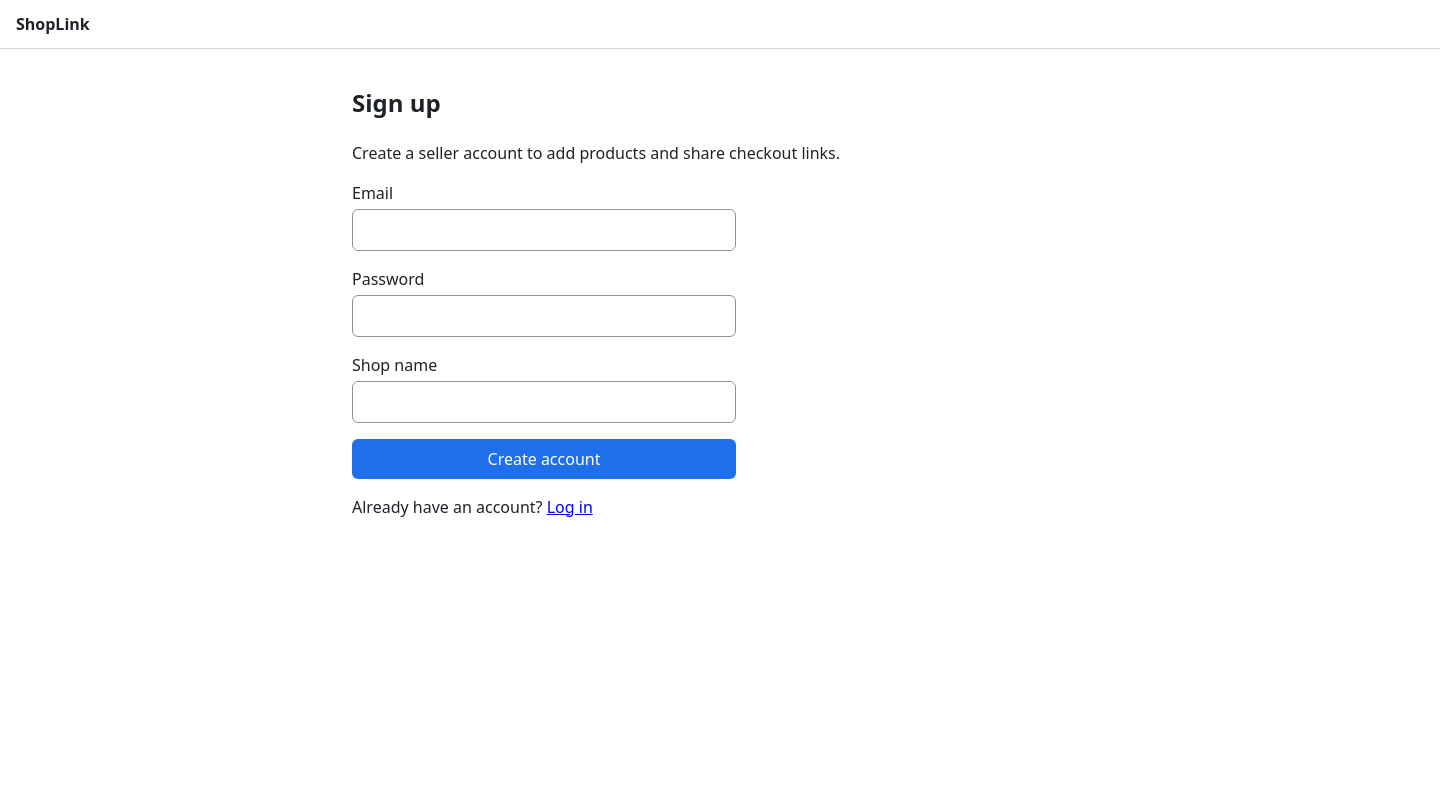
Scenario: sign up page › shows each field's error next to it
Check: the heading "Sign up" is shown, box [352, 86, 441, 119]
Step 1. Type "rafi@example.com" into the field labelled "Email" → (544, 230), box [352, 209, 736, 251]
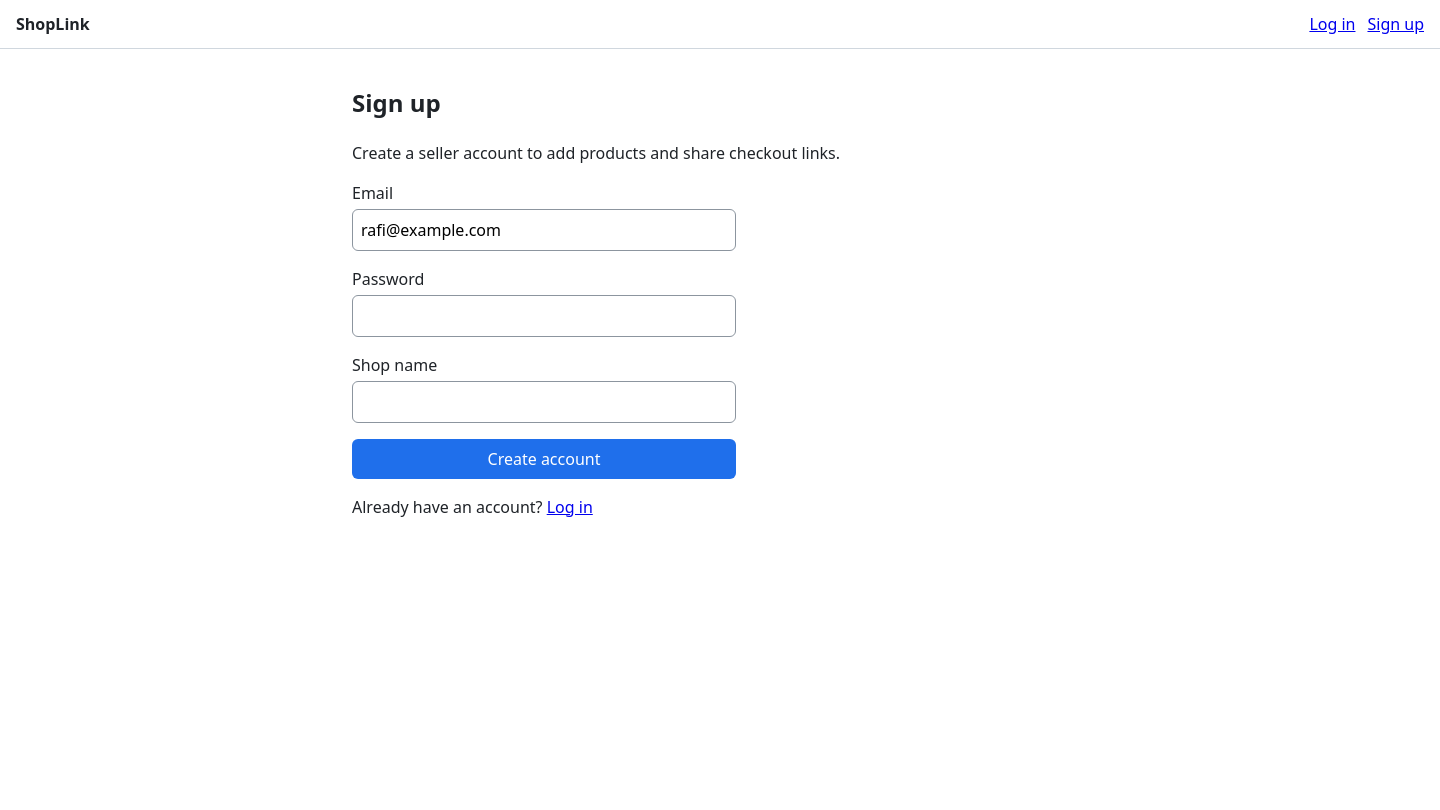
Step 2. Type "short" into the password field labelled "Password" → (544, 316), box [352, 295, 736, 337]
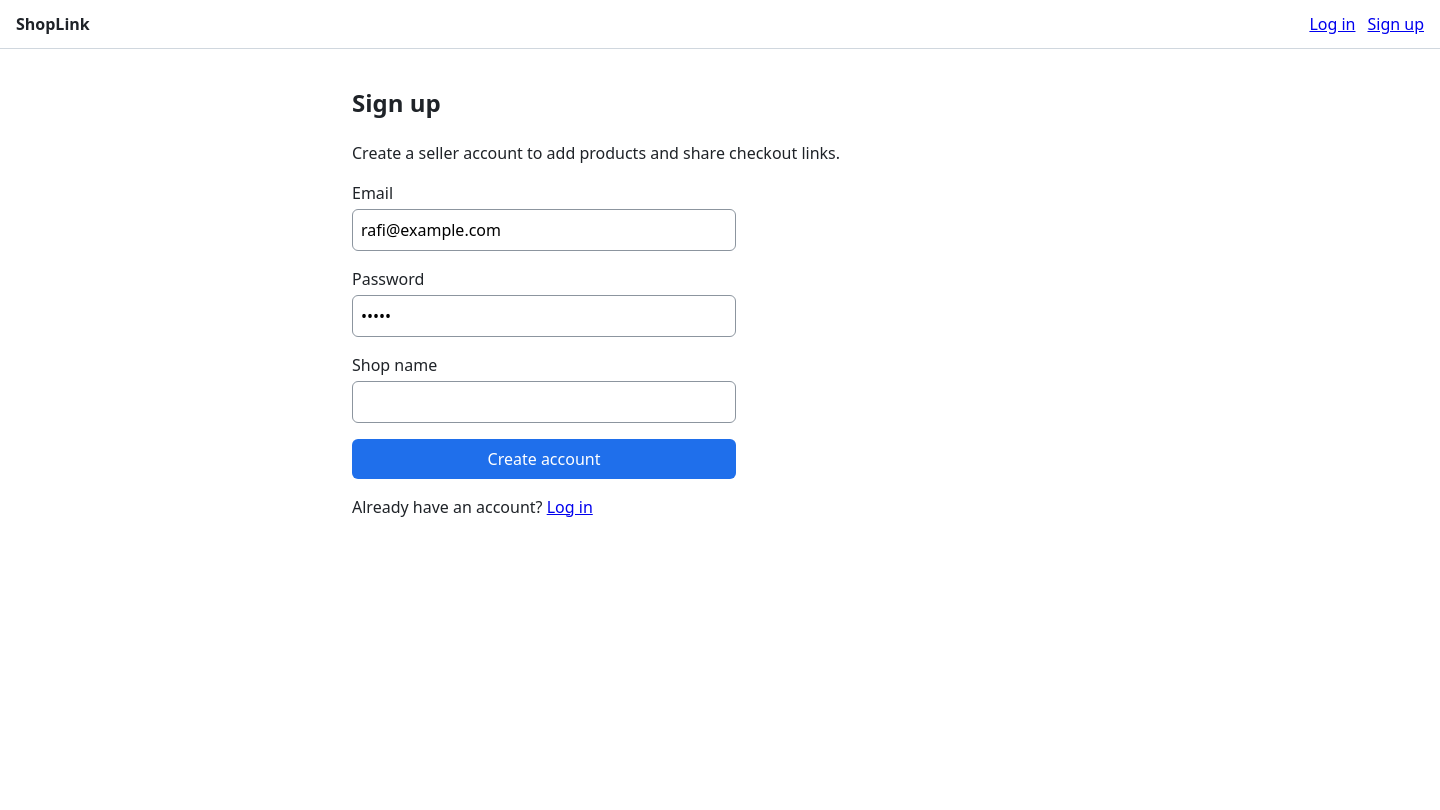
Step 3. Click the button "Create account" → click(544, 459), box [352, 439, 736, 479]
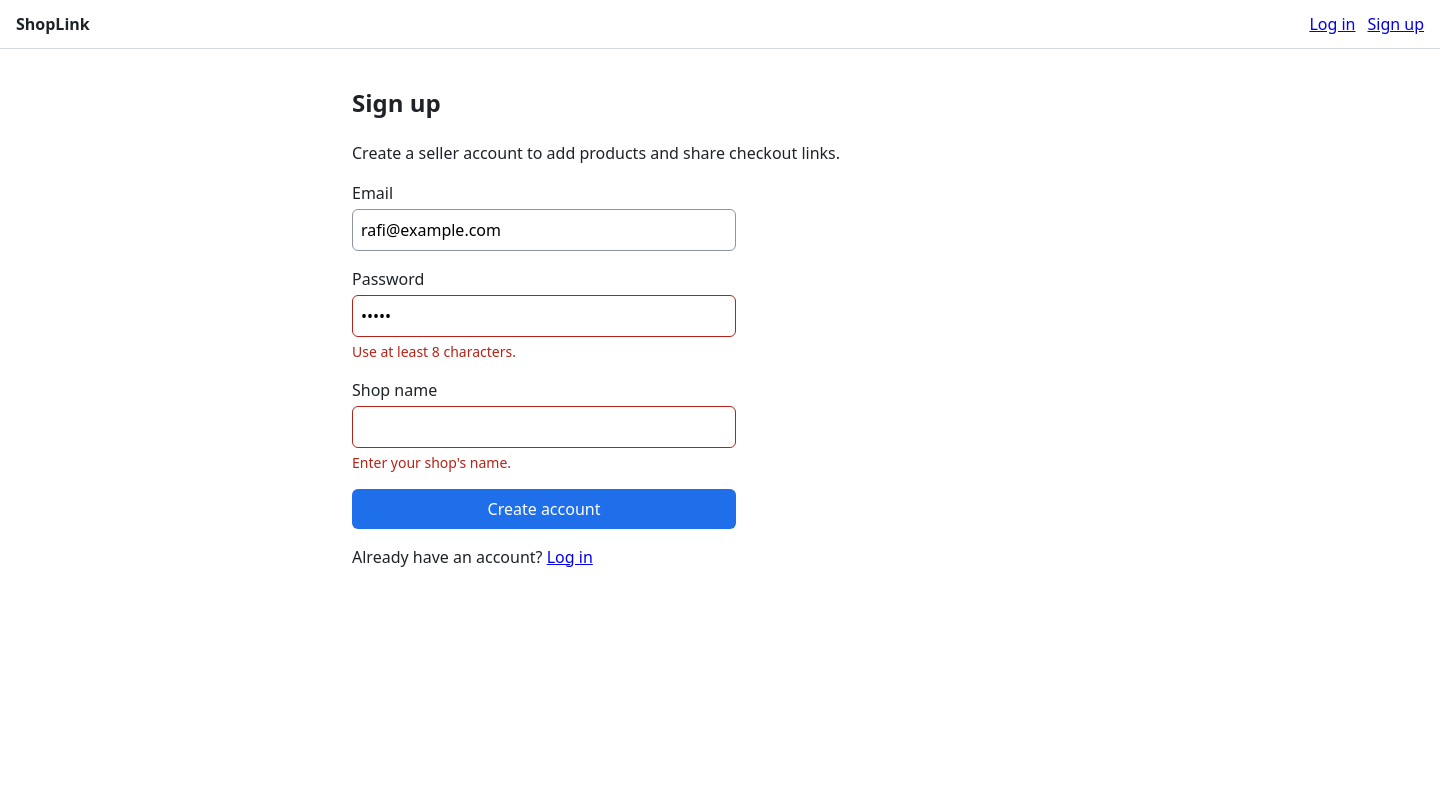
Check: the text "Use at least 8 characters." is shown, box [352, 342, 516, 361]
